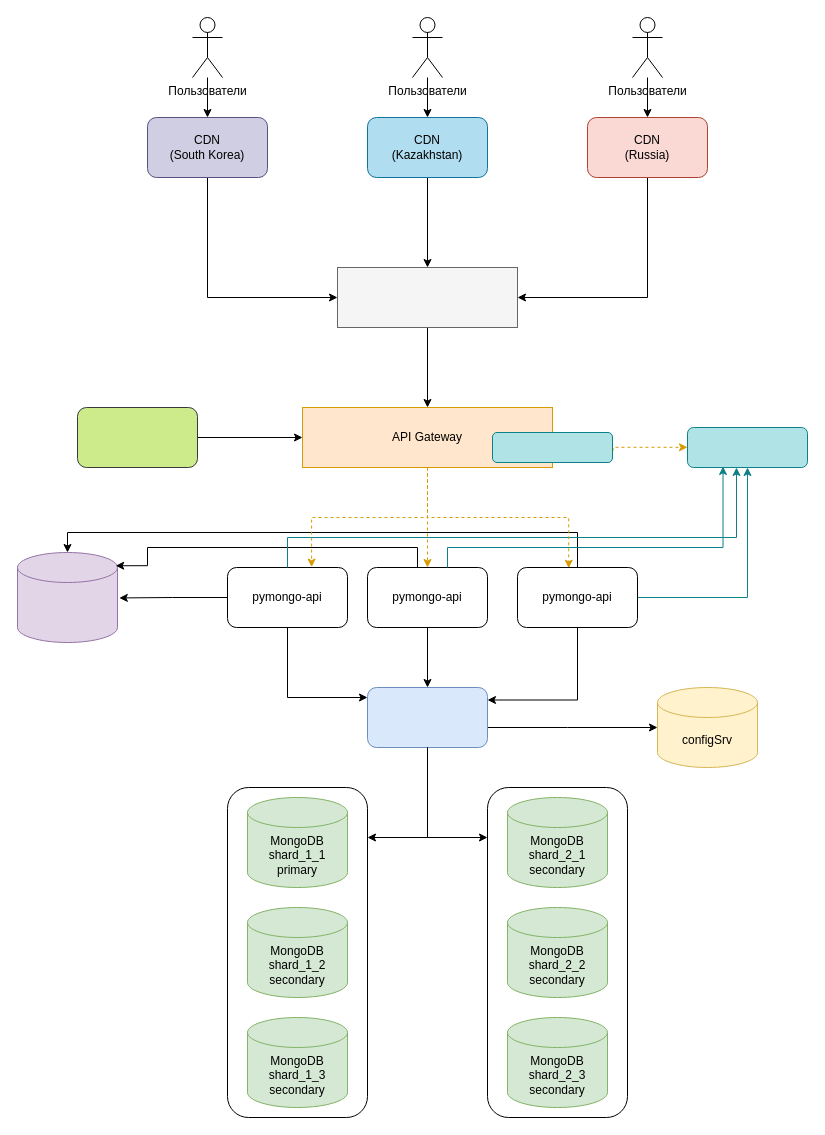
The diagram is 825 pixels wide and 1135 high, and some of its shapes have lost their labels. The shapes that lost their labels are listed below. From the top down, each one's centre as x and y in pixels, then its label:
At point 427,297: "Основной сервер (статический контент)".
At point 137,437: "запросы за динамическим контентом".
At point 552,447: "consul_kv".
At point 747,447: "Consul".
At point 67,597: "Redis (cache)".
At point 427,717: "mongos".
